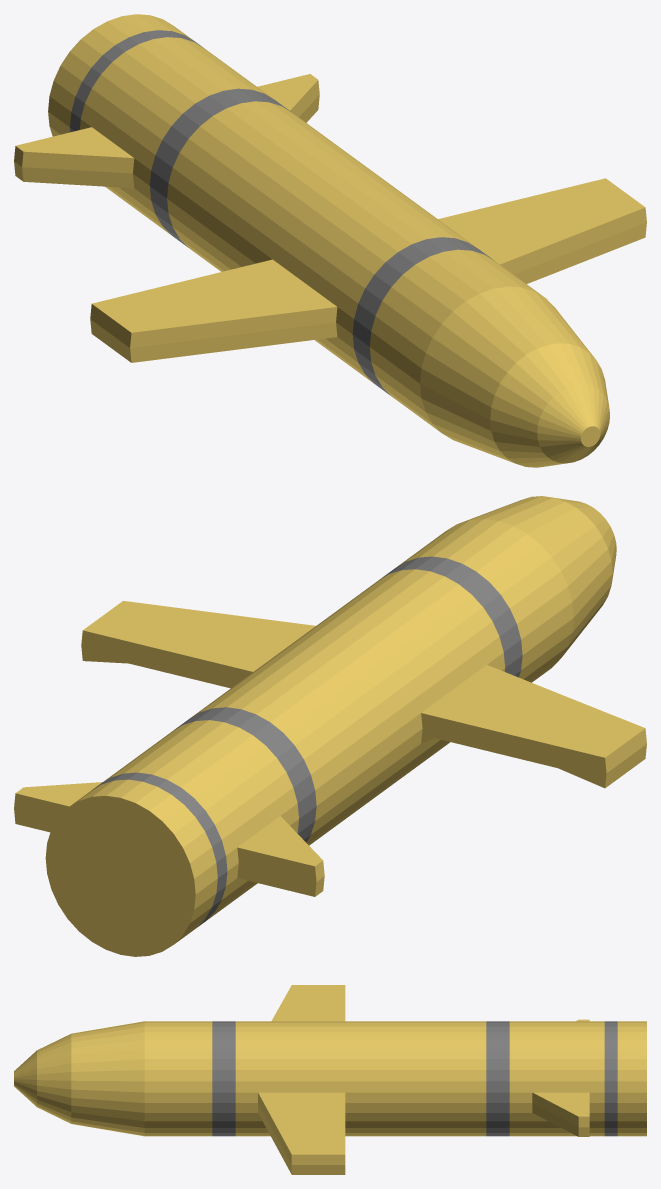
Rendered from missilev2.fbx.
3 views of the same model, one above another, from view 1: azimuth 30°, elevation 25°; view 2: azimuth 150°, elevation 25°; view 3: azimuth 270°, elevation 25° (orthographic). The views are drawn at different scales.
Visible parts, largest first — view 1: Cylinder; view 2: Cylinder; view 3: Cylinder.
Part boxes in pixels (left/top/right/bottom): Cylinder: left=14, top=14, right=646, bottom=467; Cylinder: left=14, top=496, right=646, bottom=956; Cylinder: left=14, top=985, right=646, bottom=1174.
Bounding box in the file's own units: 140 × 40 × 220.
